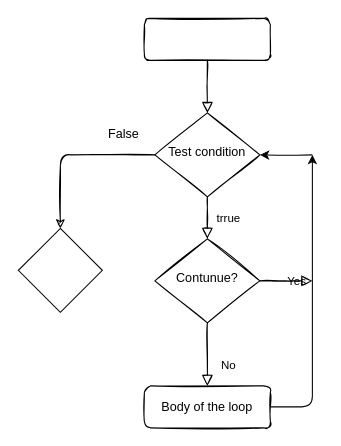
Image size: 341x446. Some labels were removed from this diagram. Each missing label, with the box of its shape:
Enter while Loop: (143, 17, 270, 60)
Exit loop: (17, 227, 102, 312)
